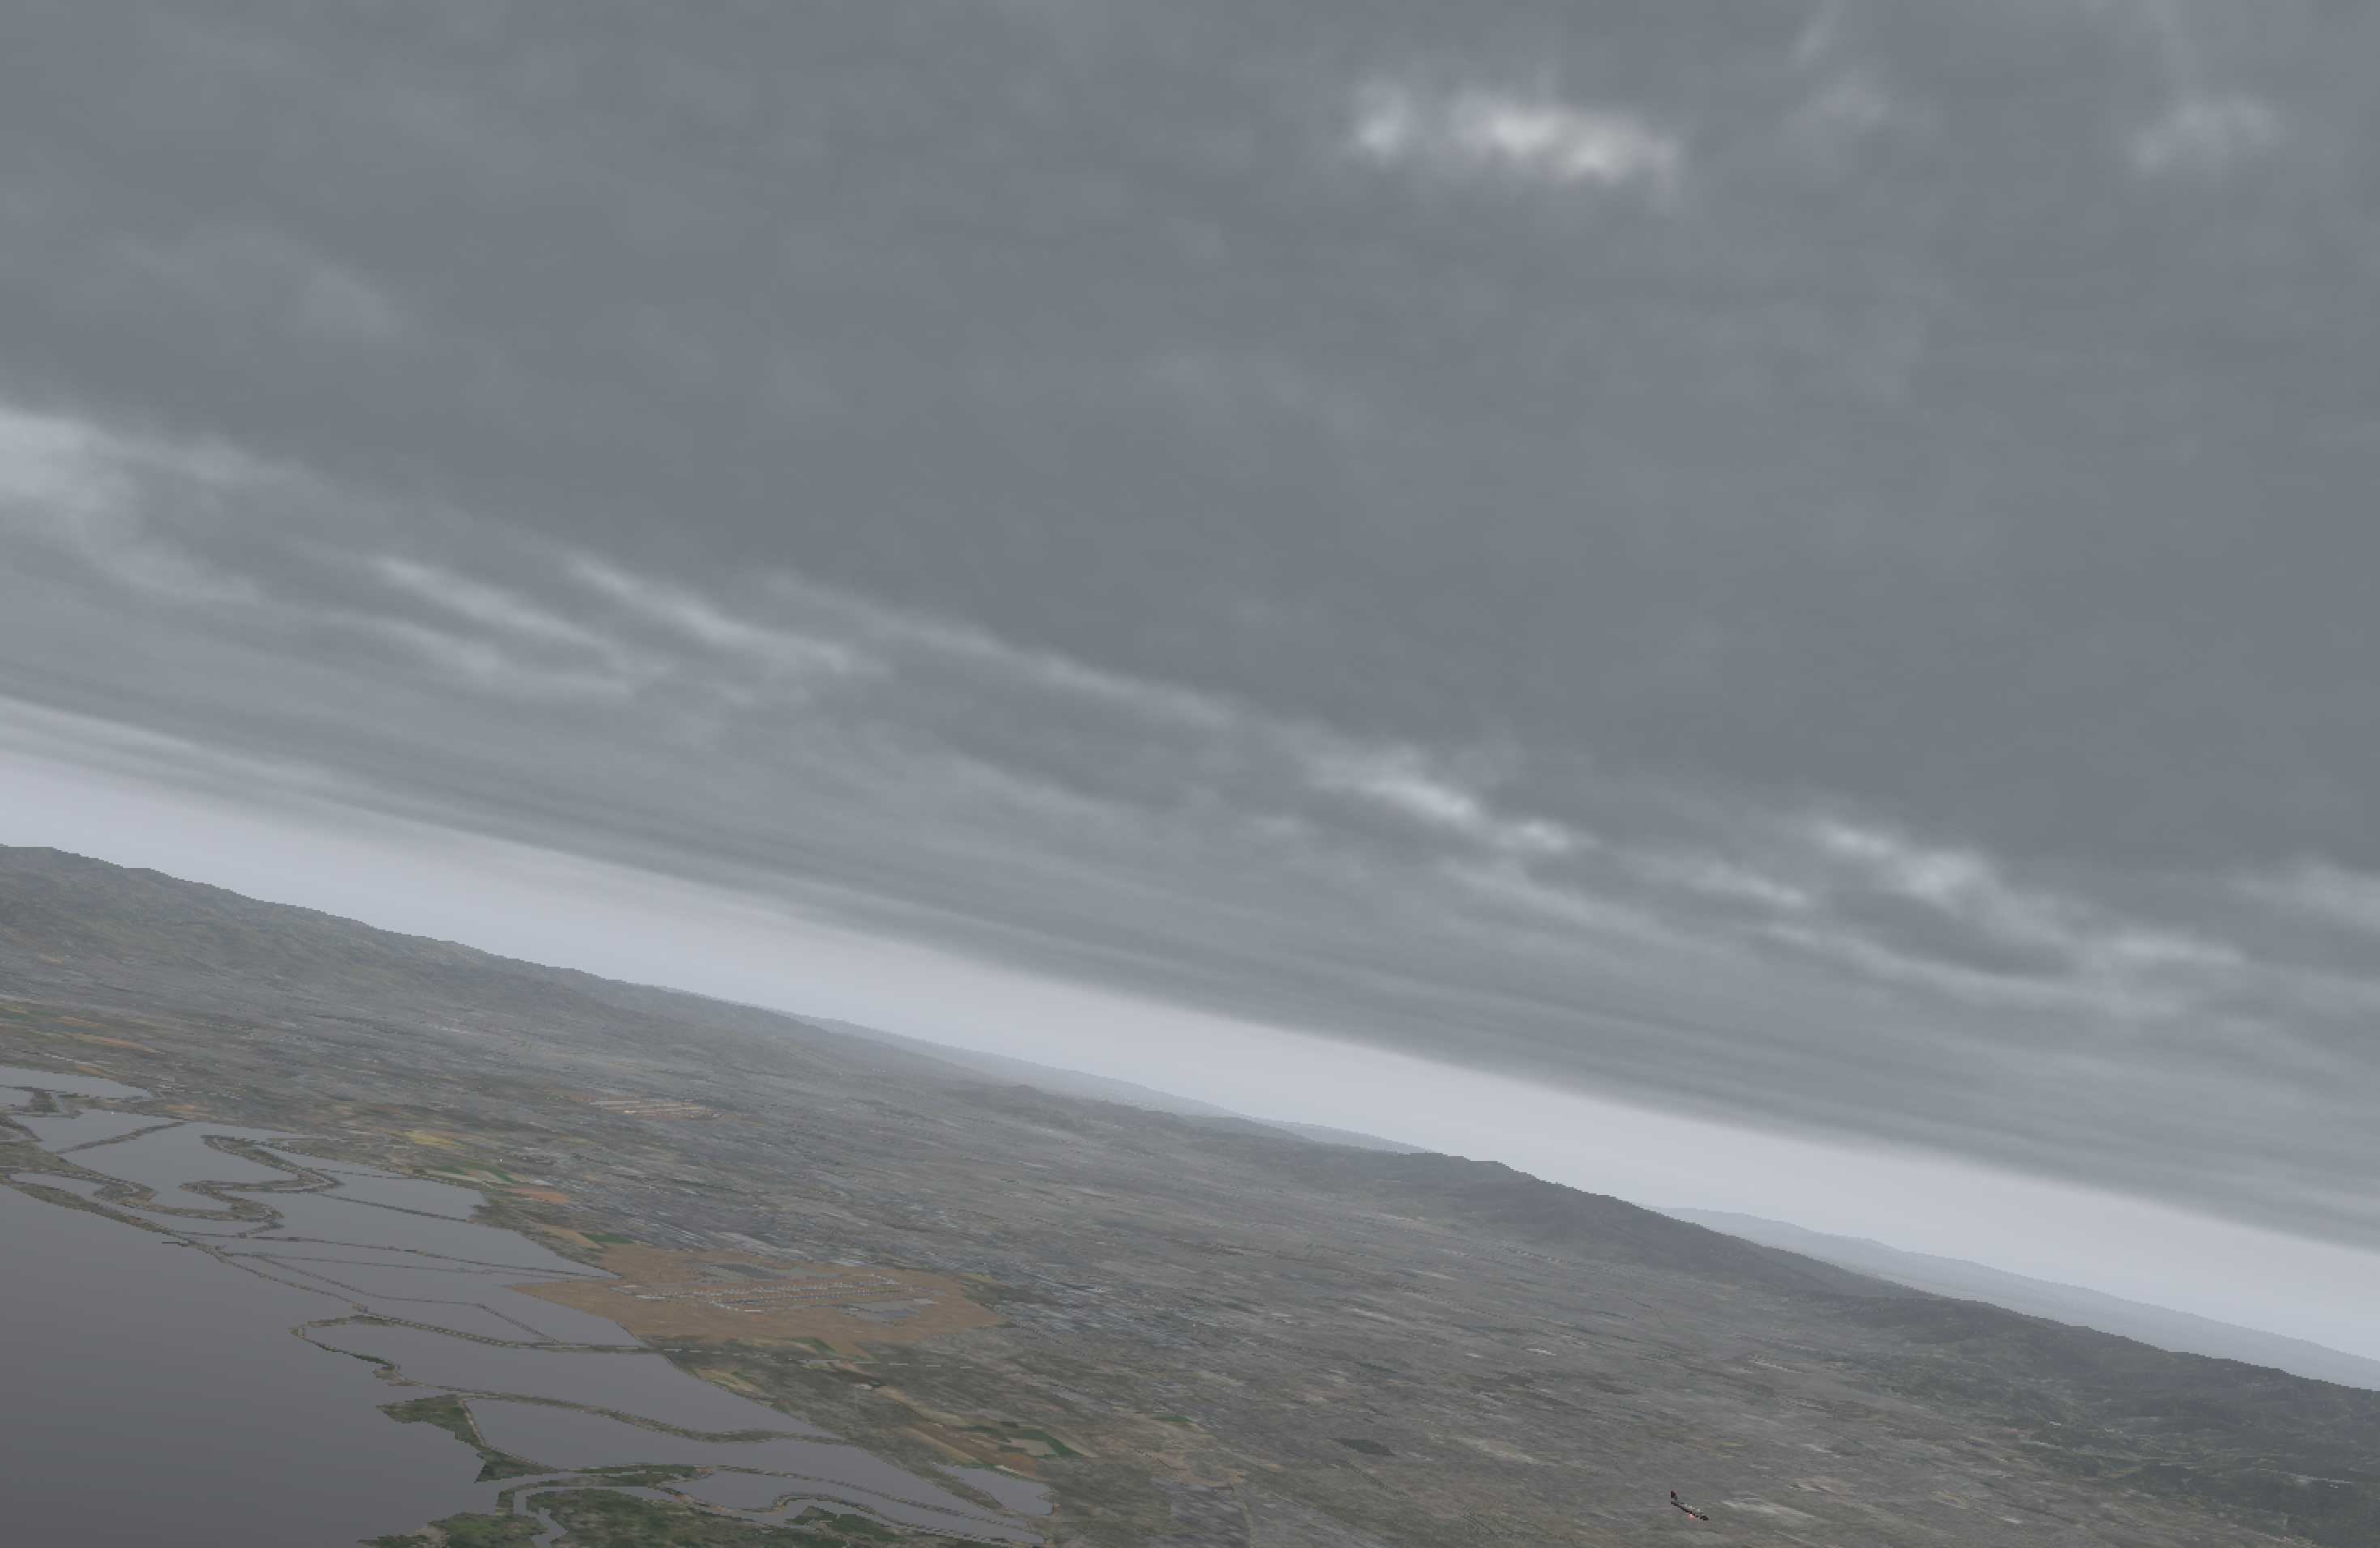aircraft: (1667, 1505, 1726, 1527)
